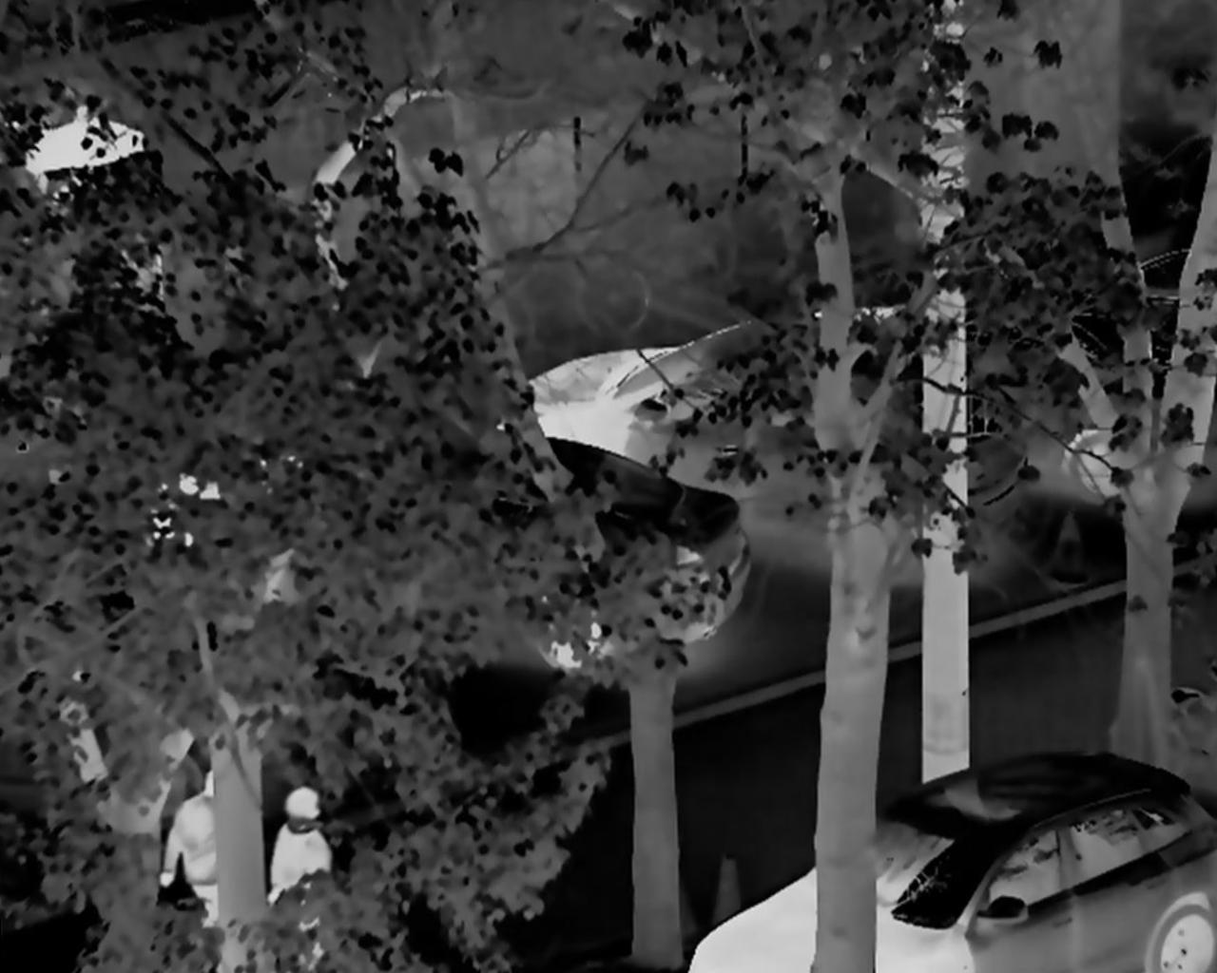person: (159, 761, 248, 960), (266, 778, 354, 964)
